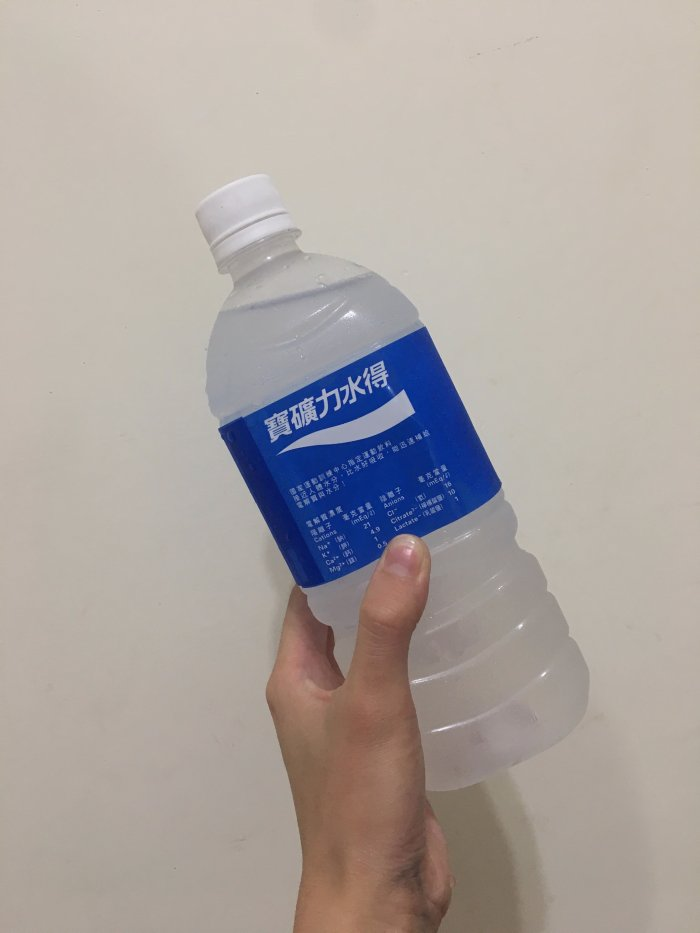POCARI SWEAT: (157, 184, 629, 801)
